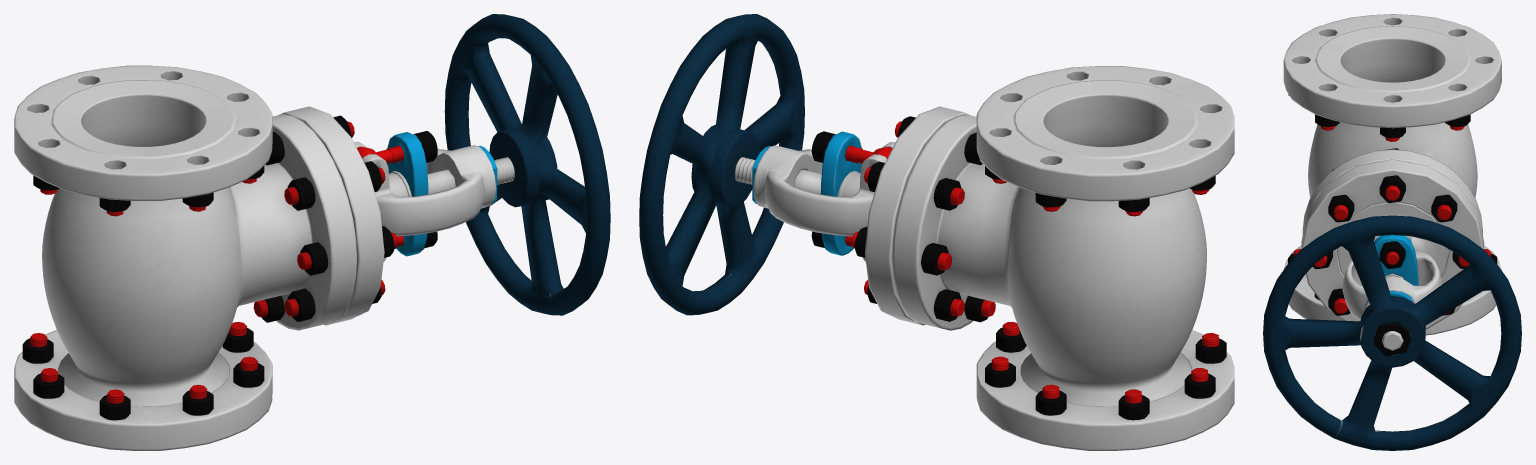
3 views of the same model, side by side, from view 1: azimuth 30°, elevation 25°; view 2: azimuth 150°, elevation 25°; view 3: azimuth 270°, elevation 25° (orthographic). The views are drawn at different scales.
Visible parts, largest first — view 1: Industrial_Pipe_Valve_01.078, Industrial_Pipe_Valve_01.076, Industrial_Pipe_Valve_01.073, Industrial_Pipe_Valve_01.074, Industrial_Pipe_Valve_01.075, Industrial_Pipe_Valve_01.047, Industrial_Pipe_Valve_01.053, Industrial_Pipe_Valve_01.046, Industrial_Pipe_Valve_01.052, Industrial_Pipe_Valve_01.049, Industrial_Pipe_Valve_01.072, Industrial_Pipe_Valve_01.048 (+1 smaller); view 2: Industrial_Pipe_Valve_01.078, Industrial_Pipe_Valve_01.076, Industrial_Pipe_Valve_01.073, Industrial_Pipe_Valve_01.074, Industrial_Pipe_Valve_01.075, Industrial_Pipe_Valve_01.071, Industrial_Pipe_Valve_01.047, Industrial_Pipe_Valve_01.046, Industrial_Pipe_Valve_01.072, Industrial_Pipe_Valve_01.058, Industrial_Pipe_Valve_01.060, Industrial_Pipe_Valve_01.057 (+1 smaller); view 3: Industrial_Pipe_Valve_01.078, Industrial_Pipe_Valve_01.076, Industrial_Pipe_Valve_01.073, Industrial_Pipe_Valve_01.074, Industrial_Pipe_Valve_01.077, Industrial_Pipe_Valve_01.069, Industrial_Pipe_Valve_01.065, Industrial_Pipe_Valve_01.064, Industrial_Pipe_Valve_01.066, Industrial_Pipe_Valve_01.075, Industrial_Pipe_Valve_01.067.
Part boxes in pixels (<box>): Industrial_Pipe_Valve_01.078: <box>14,65,356,450</box>; Industrial_Pipe_Valve_01.076: <box>444,14,610,315</box>; Industrial_Pipe_Valve_01.073: <box>279,106,496,325</box>; Industrial_Pipe_Valve_01.074: <box>387,132,428,256</box>; Industrial_Pipe_Valve_01.075: <box>427,157,514,194</box>; Industrial_Pipe_Valve_01.047: <box>99,395,130,420</box>; Industrial_Pipe_Valve_01.053: <box>287,177,315,210</box>; Industrial_Pipe_Valve_01.046: <box>33,374,64,398</box>; Industrial_Pipe_Valve_01.052: <box>300,242,328,275</box>; Industrial_Pipe_Valve_01.049: <box>233,362,264,387</box>; Industrial_Pipe_Valve_01.072: <box>22,338,53,363</box>; Industrial_Pipe_Valve_01.048: <box>182,391,213,415</box>; Industrial_Pipe_Valve_01.078: <box>892,66,1234,450</box>; Industrial_Pipe_Valve_01.076: <box>639,14,804,315</box>; Industrial_Pipe_Valve_01.073: <box>753,106,970,325</box>; Industrial_Pipe_Valve_01.074: <box>820,131,862,255</box>; Industrial_Pipe_Valve_01.075: <box>734,157,821,194</box>; Industrial_Pipe_Valve_01.071: <box>1035,390,1066,415</box>; Industrial_Pipe_Valve_01.047: <box>1195,338,1226,363</box>; Industrial_Pipe_Valve_01.046: <box>1184,373,1215,398</box>; Industrial_Pipe_Valve_01.072: <box>1118,395,1149,420</box>; Industrial_Pipe_Valve_01.058: <box>933,289,961,321</box>; Industrial_Pipe_Valve_01.060: <box>933,178,961,210</box>; Industrial_Pipe_Valve_01.057: <box>921,243,948,275</box>; Industrial_Pipe_Valve_01.078: <box>1283,14,1501,335</box>; Industrial_Pipe_Valve_01.076: <box>1263,215,1521,450</box>; Industrial_Pipe_Valve_01.073: <box>1301,159,1484,329</box>; Industrial_Pipe_Valve_01.074: <box>1374,235,1418,285</box>; Industrial_Pipe_Valve_01.077: <box>1373,321,1411,356</box>; Industrial_Pipe_Valve_01.069: <box>1379,241,1405,268</box>; Industrial_Pipe_Valve_01.065: <box>1379,175,1405,202</box>; Industrial_Pipe_Valve_01.064: <box>1431,194,1457,222</box>; Industrial_Pipe_Valve_01.066: <box>1328,194,1354,222</box>; Industrial_Pipe_Valve_01.075: <box>1382,273,1403,350</box>; Industrial_Pipe_Valve_01.067: <box>1328,288,1350,315</box>.
Bounding box in the file's own units: 1.2 × 0.6172 × 0.6166.
Materials: 1 (1 with a texture image).
